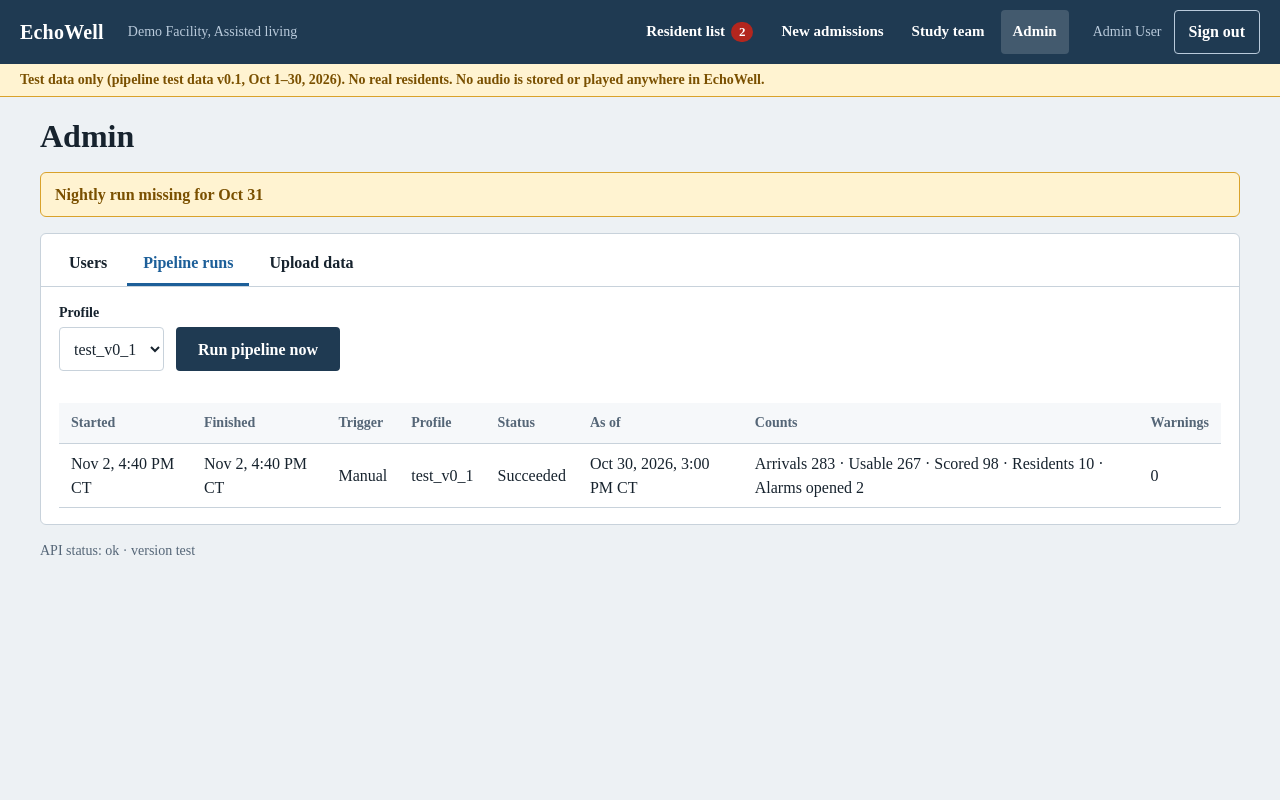
Test: /admin › Pipeline runs › shows 409 PIPELINE_RUN_IN_PROGRESS as a message
Click the button "Run pipeline now" at (258, 349), box [176,327,340,371]
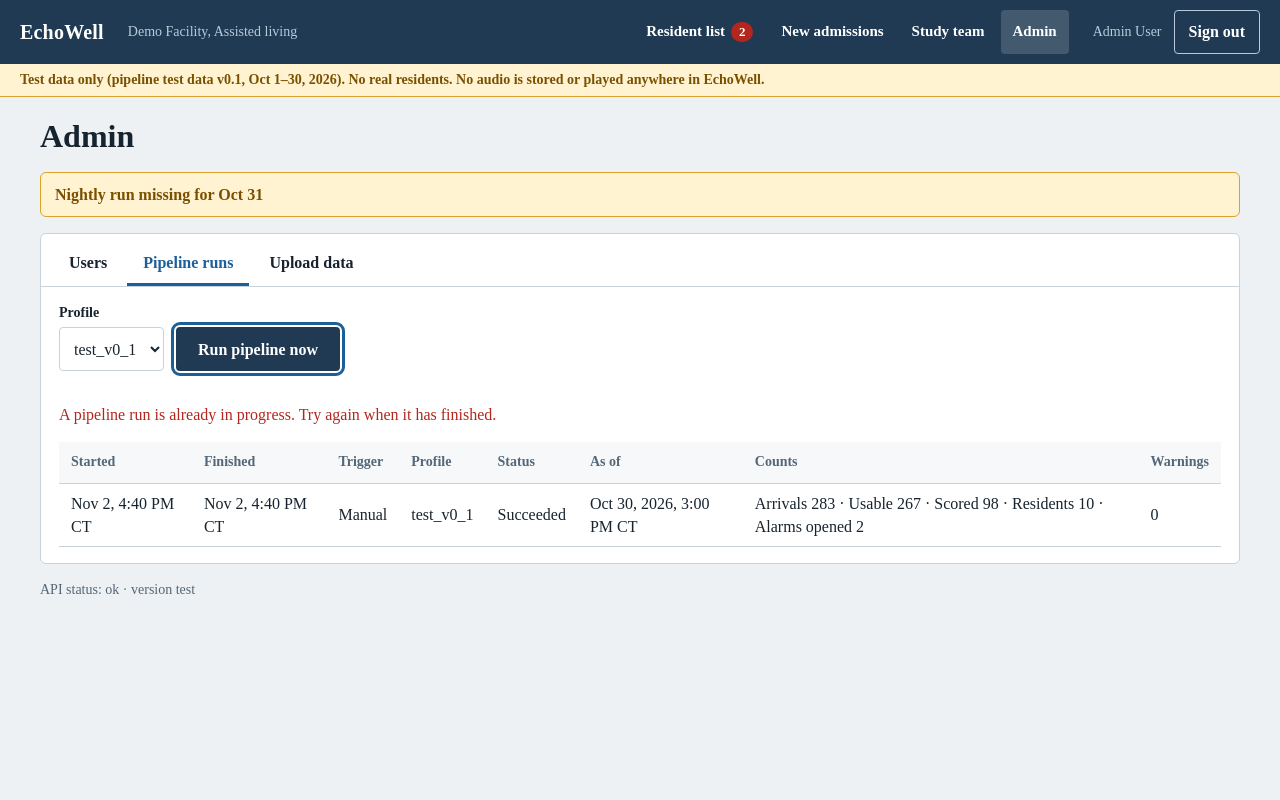
Now the text "A pipeline run is already in progress. Try again when it has finished." is shown, box [59,406,496,423]
